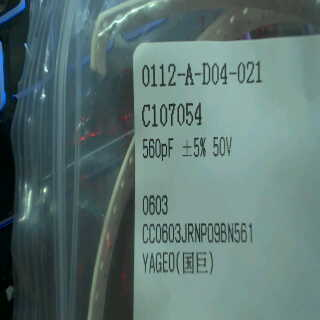560pF: (140, 134, 177, 165)
